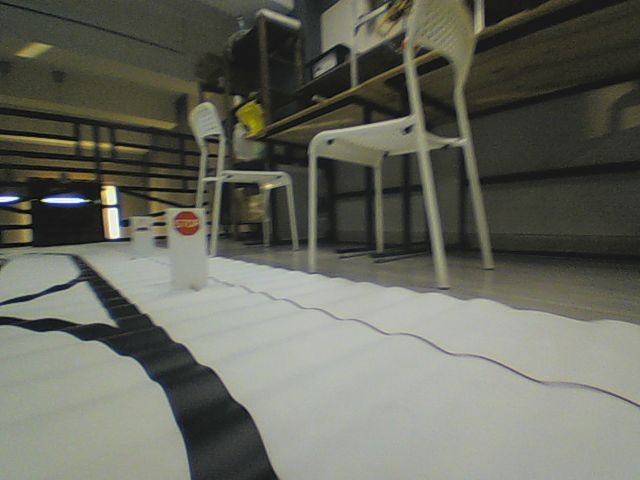Stop: (172, 209, 201, 238)
